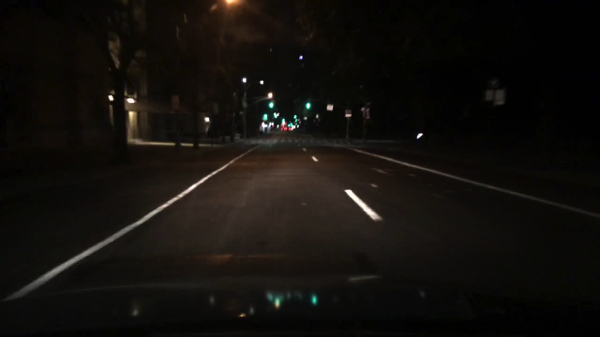car: (280, 123, 291, 133)
traffic light: (304, 102, 314, 111), (261, 113, 270, 122), (267, 100, 275, 110), (272, 113, 280, 121), (293, 113, 299, 122), (287, 122, 294, 129), (281, 118, 286, 125)
traffic sign: (493, 88, 506, 106), (170, 94, 181, 111), (484, 87, 494, 103), (344, 109, 353, 118), (326, 103, 334, 112)
